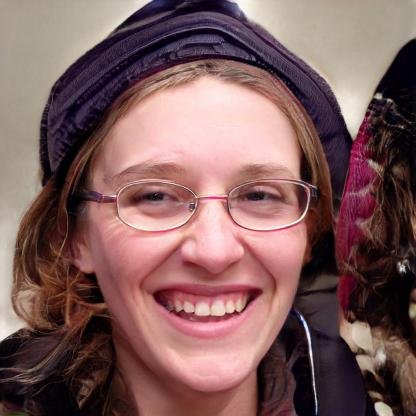glasses: (93, 172, 312, 240)
